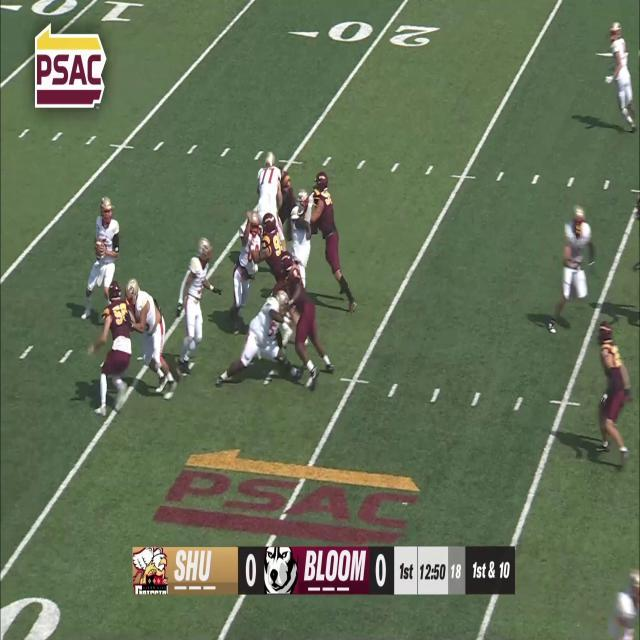football: (93, 238, 104, 260)
